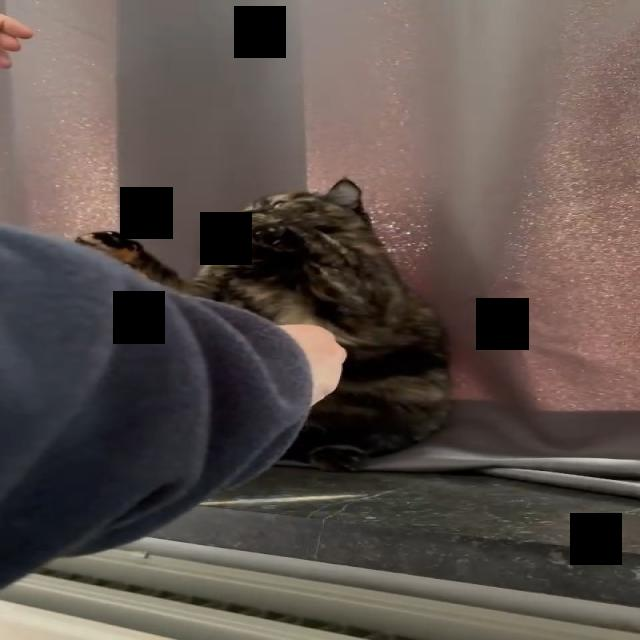authorized: (72, 176, 453, 472)
